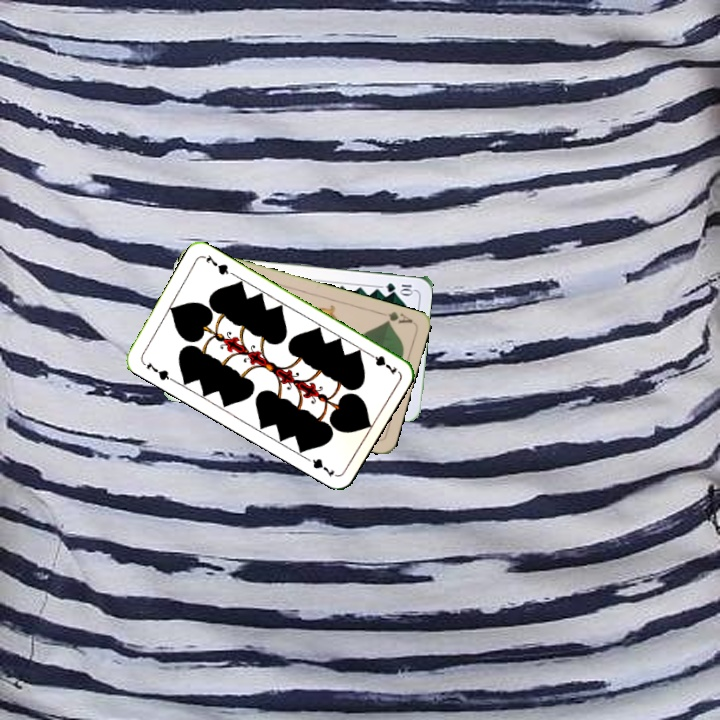G10: (382, 279, 416, 296)
G7: (363, 348, 400, 377), (138, 358, 176, 383)
GA: (375, 307, 415, 327)
